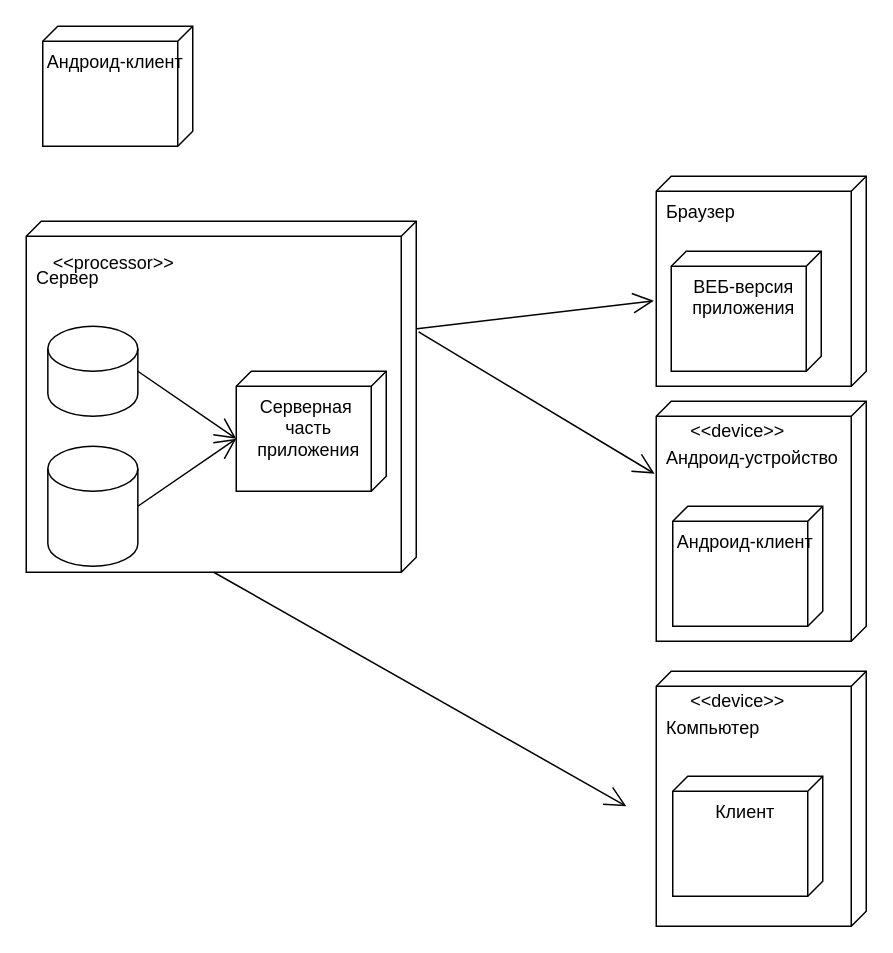
This 893x953 diagram has some shape labels left out. Each missing label, with the box of its shape:
database: (46, 325, 138, 416)
JSON file System: (46, 445, 138, 566)
